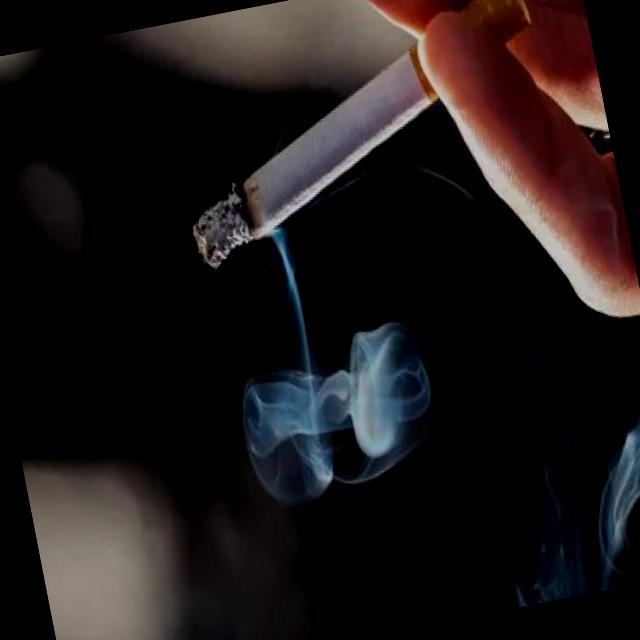smoke: (152, 0, 571, 281)
